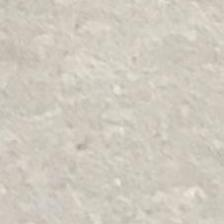Non_Crack: (36, 24, 220, 203)
